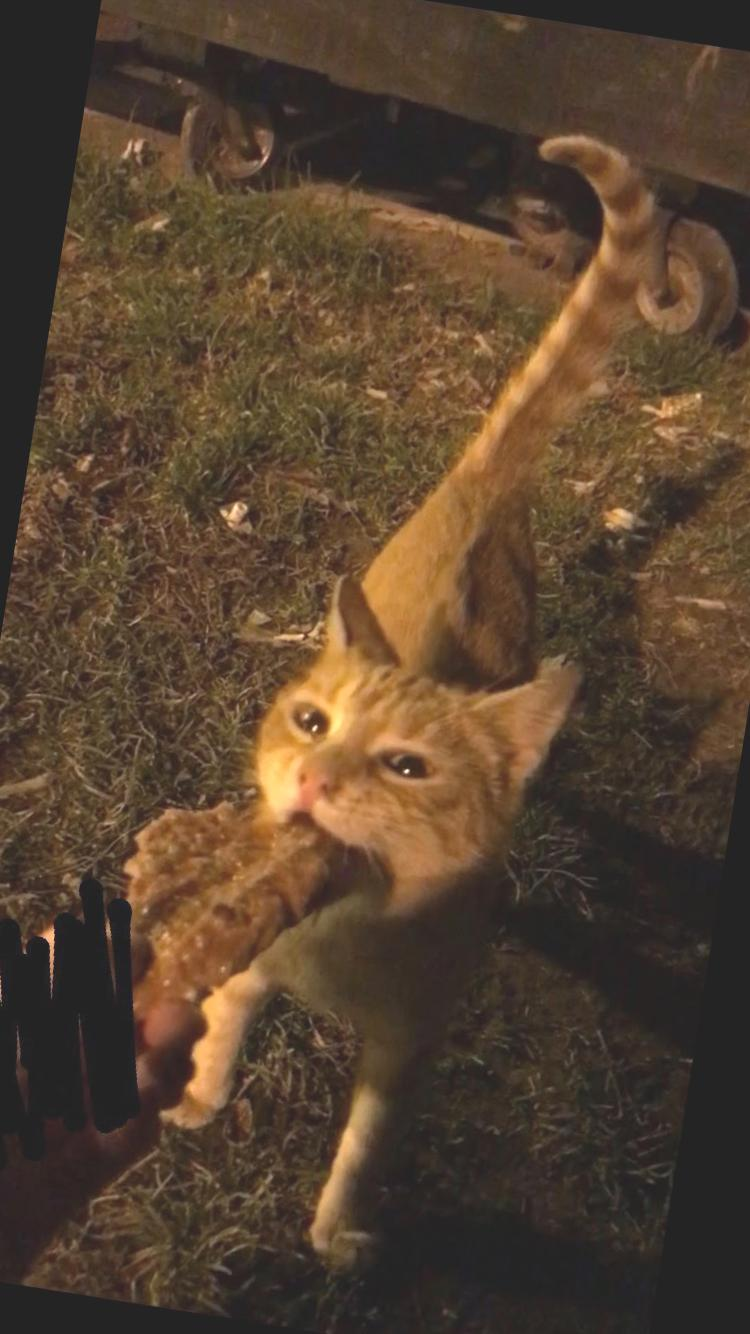macka: (154, 93, 702, 1291)
